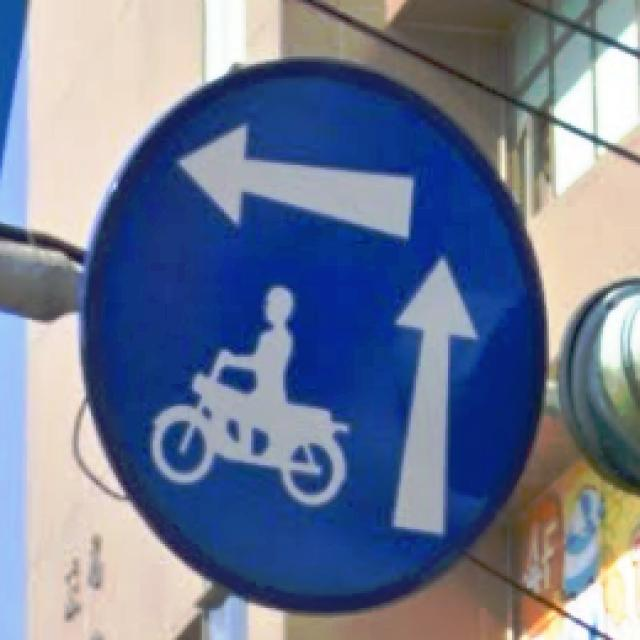twostageturn: (98, 76, 544, 593)
